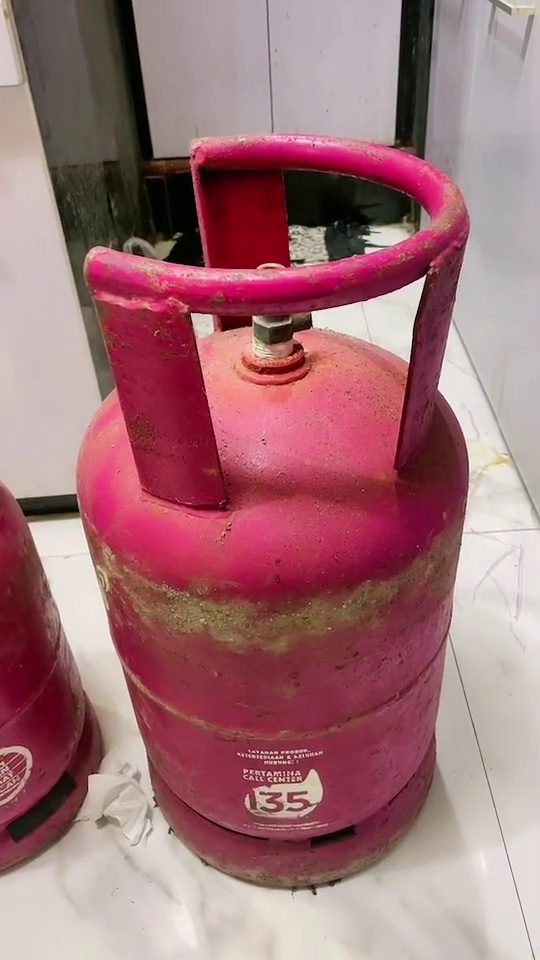bright_gas: (77, 135, 470, 885), (1, 477, 108, 878)
